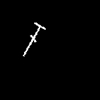double_crochet: (23, 23, 44, 55)
